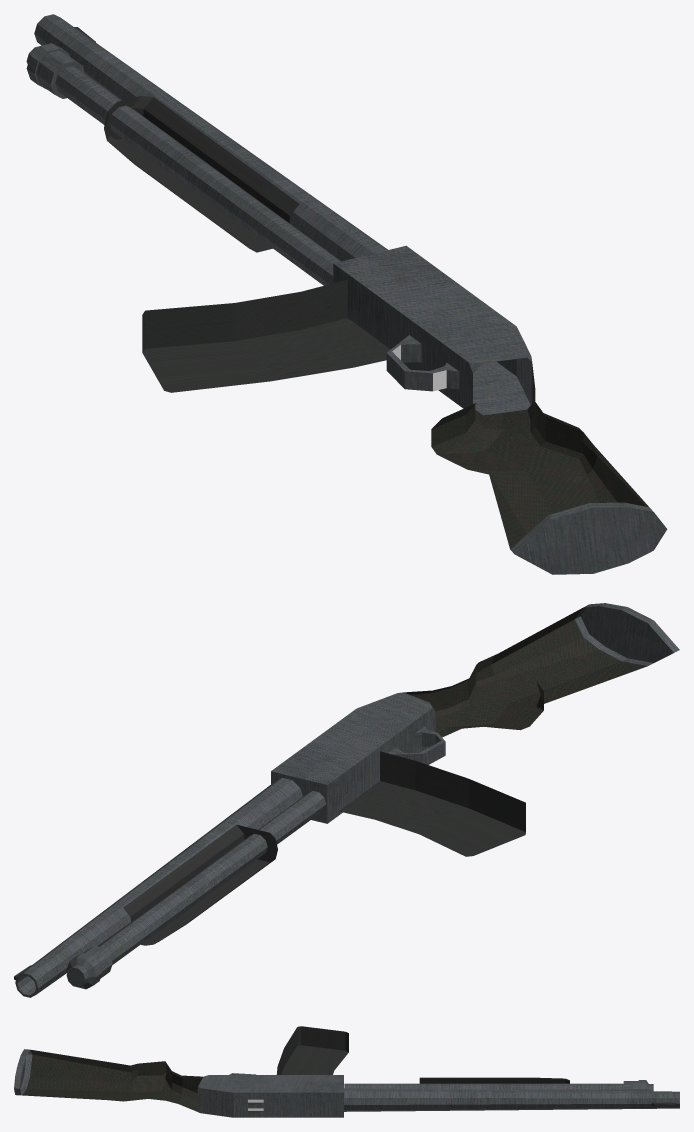
The model's file is weapon_870_pickup.glb.
The picture shows the model from 3 angles, top to bottom: view 1: azimuth 30°, elevation 25°; view 2: azimuth 150°, elevation 25°; view 3: azimuth 270°, elevation 25°; orthographic projection. The views are drawn at different scales.
Parts seen in each view (by area): view 1: MeshInstance3D; view 2: MeshInstance3D; view 3: MeshInstance3D.
Part boxes in pixels (box(x1,y1,x2,y2)): MeshInstance3D: box(26, 14, 667, 574); MeshInstance3D: box(14, 603, 679, 997); MeshInstance3D: box(14, 1026, 679, 1117).
Size of the model in its own units: 22.79 by 4.86 by 88.73.
5 materials, 4 textured.
